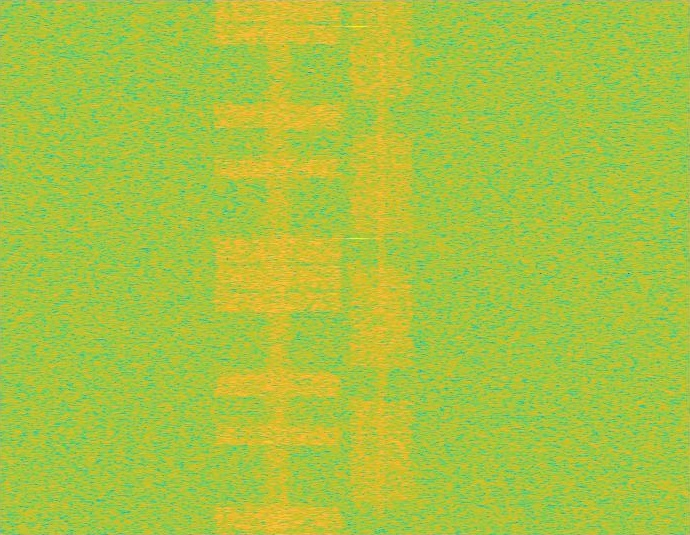5G: (347, 0, 416, 534)
DSSS: (262, 0, 294, 534), (377, 0, 386, 534)
LTE: (209, 0, 347, 534)
Radar: (351, 0, 364, 534)
